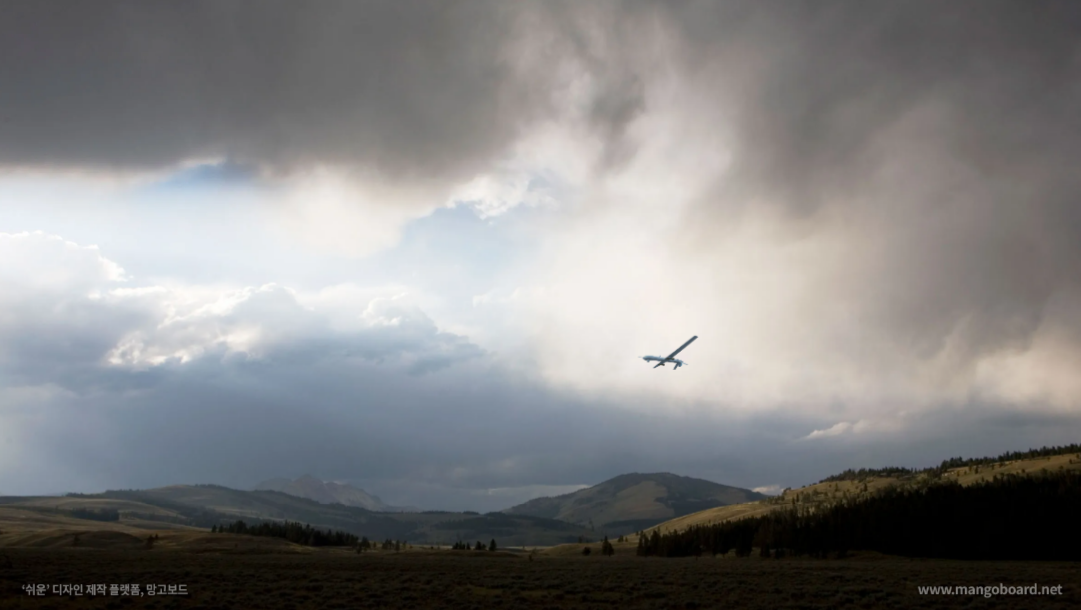military drone: (637, 335, 697, 370)
